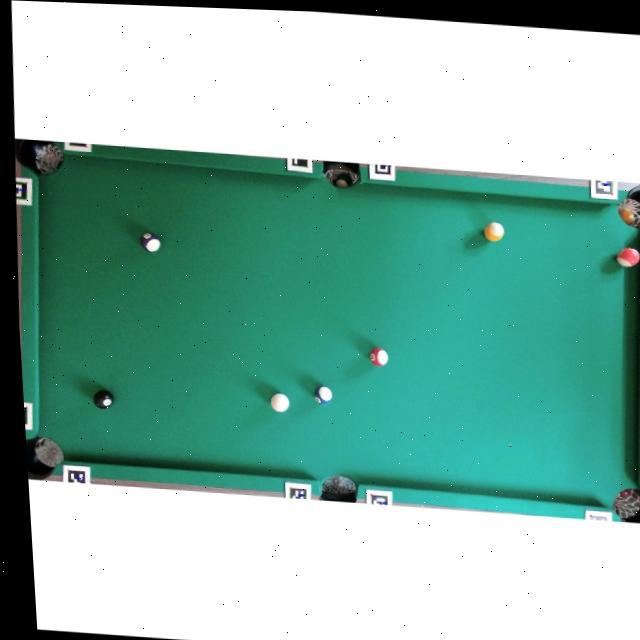cue ball: (269, 392, 290, 412)
other: (614, 245, 640, 268), (138, 231, 162, 253), (91, 388, 115, 410), (483, 220, 505, 242), (368, 346, 389, 367), (312, 385, 332, 404)
